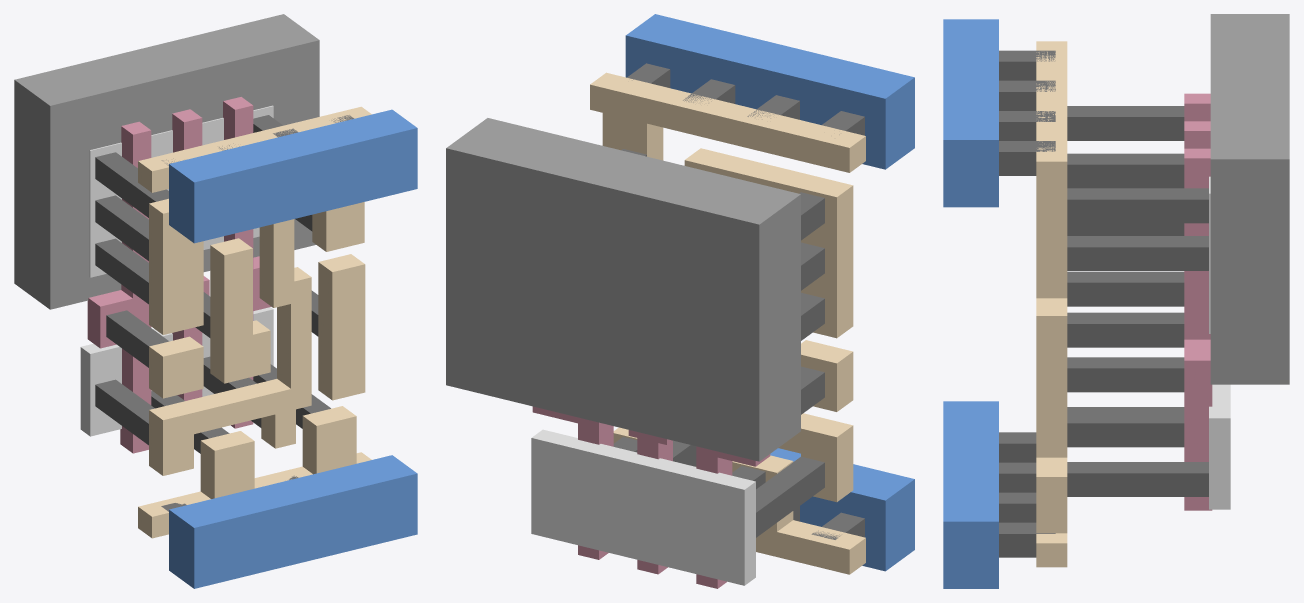
File: sky130_fd_sc_hd__nor3_1.gds.gltf
3 renders of one model, left to right at view 1: azimuth 30°, elevation 25°; view 2: azimuth 150°, elevation 25°; view 3: azimuth 270°, elevation 25°, orthographic. The views are drawn at different scales.
Visible parts, largest first — view 1: sky130_fd_sc_hd__nor3_1_li1, sky130_fd_sc_hd__nor3_1_met1, sky130_fd_sc_hd__nor3_1_nwell, sky130_fd_sc_hd__nor3_1_licon, sky130_fd_sc_hd__nor3_1_poly, sky130_fd_sc_hd__nor3_1_diff; view 2: sky130_fd_sc_hd__nor3_1_nwell, sky130_fd_sc_hd__nor3_1_li1, sky130_fd_sc_hd__nor3_1_met1, sky130_fd_sc_hd__nor3_1_diff, sky130_fd_sc_hd__nor3_1_licon, sky130_fd_sc_hd__nor3_1_poly, sky130_fd_sc_hd__nor3_1_mcon; view 3: sky130_fd_sc_hd__nor3_1_licon, sky130_fd_sc_hd__nor3_1_nwell, sky130_fd_sc_hd__nor3_1_met1, sky130_fd_sc_hd__nor3_1_li1, sky130_fd_sc_hd__nor3_1_mcon, sky130_fd_sc_hd__nor3_1_poly, sky130_fd_sc_hd__nor3_1_diff.
Boxes of the visible parts, x1,y1,x2,y2 form: sky130_fd_sc_hd__nor3_1_li1: (138,106,371,538); sky130_fd_sc_hd__nor3_1_met1: (169,109,417,588); sky130_fd_sc_hd__nor3_1_nwell: (14,14,319,309); sky130_fd_sc_hd__nor3_1_licon: (95,115,330,453); sky130_fd_sc_hd__nor3_1_poly: (87,97,271,453); sky130_fd_sc_hd__nor3_1_diff: (80,105,273,436); sky130_fd_sc_hd__nor3_1_nwell: (446,118,800,461); sky130_fd_sc_hd__nor3_1_li1: (590,72,865,574); sky130_fd_sc_hd__nor3_1_met1: (625,14,914,571); sky130_fd_sc_hd__nor3_1_diff: (531,429,755,585); sky130_fd_sc_hd__nor3_1_licon: (613,149,824,537); sky130_fd_sc_hd__nor3_1_poly: (532,406,770,588); sky130_fd_sc_hd__nor3_1_mcon: (627,63,864,539); sky130_fd_sc_hd__nor3_1_licon: (1067,106,1208,496); sky130_fd_sc_hd__nor3_1_nwell: (1210,14,1289,384); sky130_fd_sc_hd__nor3_1_met1: (943,19,998,588); sky130_fd_sc_hd__nor3_1_li1: (1036,41,1067,567); sky130_fd_sc_hd__nor3_1_mcon: (999,50,1055,557); sky130_fd_sc_hd__nor3_1_poly: (1184,93,1212,510); sky130_fd_sc_hd__nor3_1_diff: (1209,176,1230,509).
Size of the model in its own units: 2.22 by 3.2 by 2.24.
